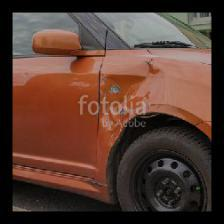door_dent: (101, 57, 195, 142)
